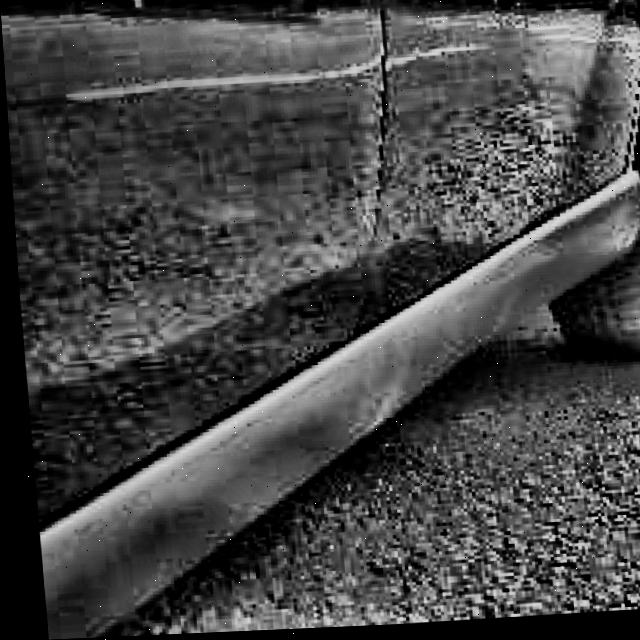door_scratch: (17, 11, 640, 115)
